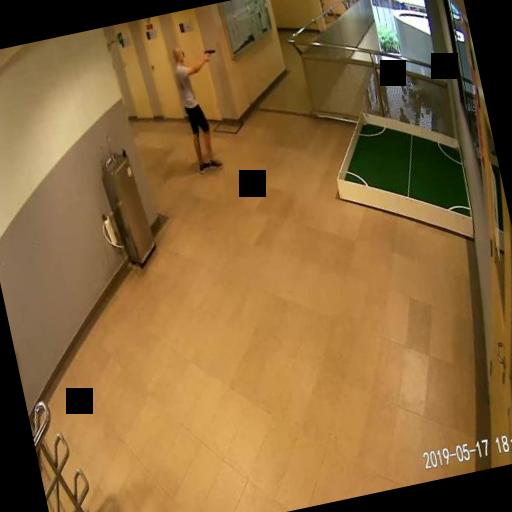Handgun: (202, 46, 215, 60)
